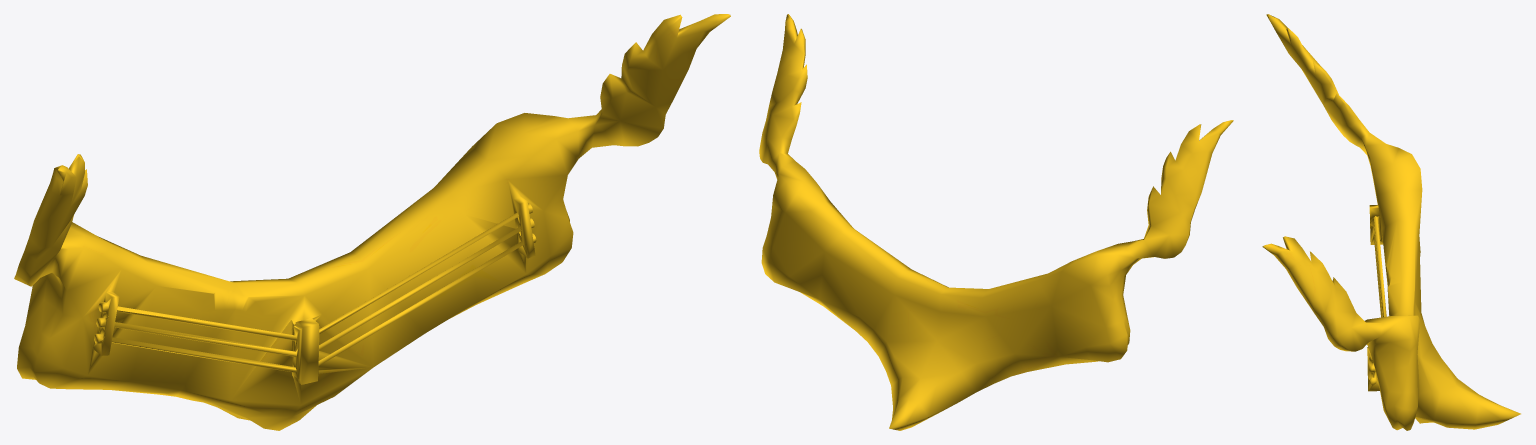
Rendered from weapon.obj.
3 renders of one model, left to right at view 1: azimuth 30°, elevation 25°; view 2: azimuth 150°, elevation 25°; view 3: azimuth 270°, elevation 25°, orthographic. The views are drawn at different scales.
Visible parts, largest first — view 1: object_1; view 2: object_1; view 3: object_1.
Boxes of the visible parts, bbox=[...] form: object_1: bbox=[14, 14, 730, 430]; object_1: bbox=[759, 14, 1233, 430]; object_1: bbox=[1262, 14, 1520, 430].
Size of the model in its own units: 25.41 by 15.67 by 12.17.
1 material, 1 textured.
